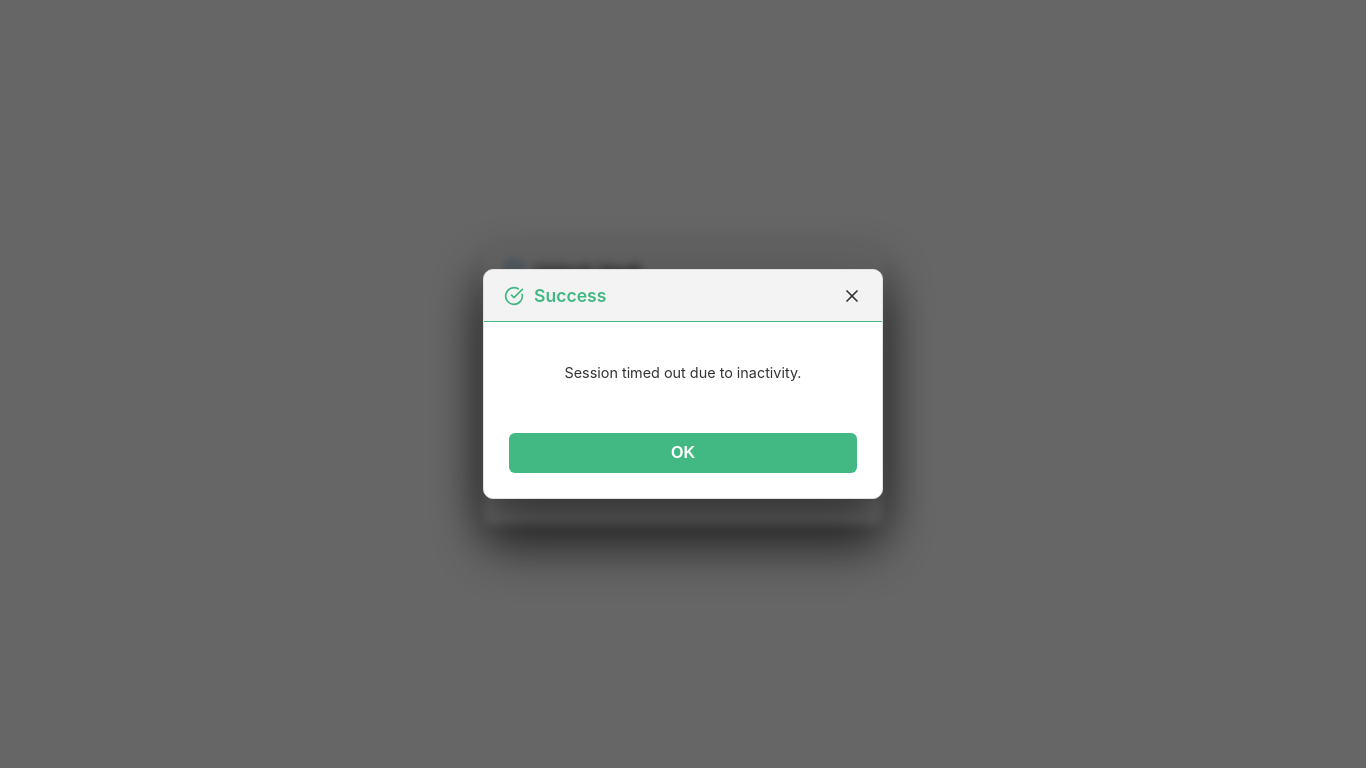
Test: App - sign-in screens › tells the user when the session timed out, and lets them dismiss it
This screenshot has width=1366, height=768.
Expected: the text "Session timed out due to inactivity." is shown, top-left (564, 364), bottom-right (802, 381)
What coordinates should you click on to do the following:
click the button "OK"
I would click on:
 (683, 453)
Its box is top-left (509, 433), bottom-right (857, 473).
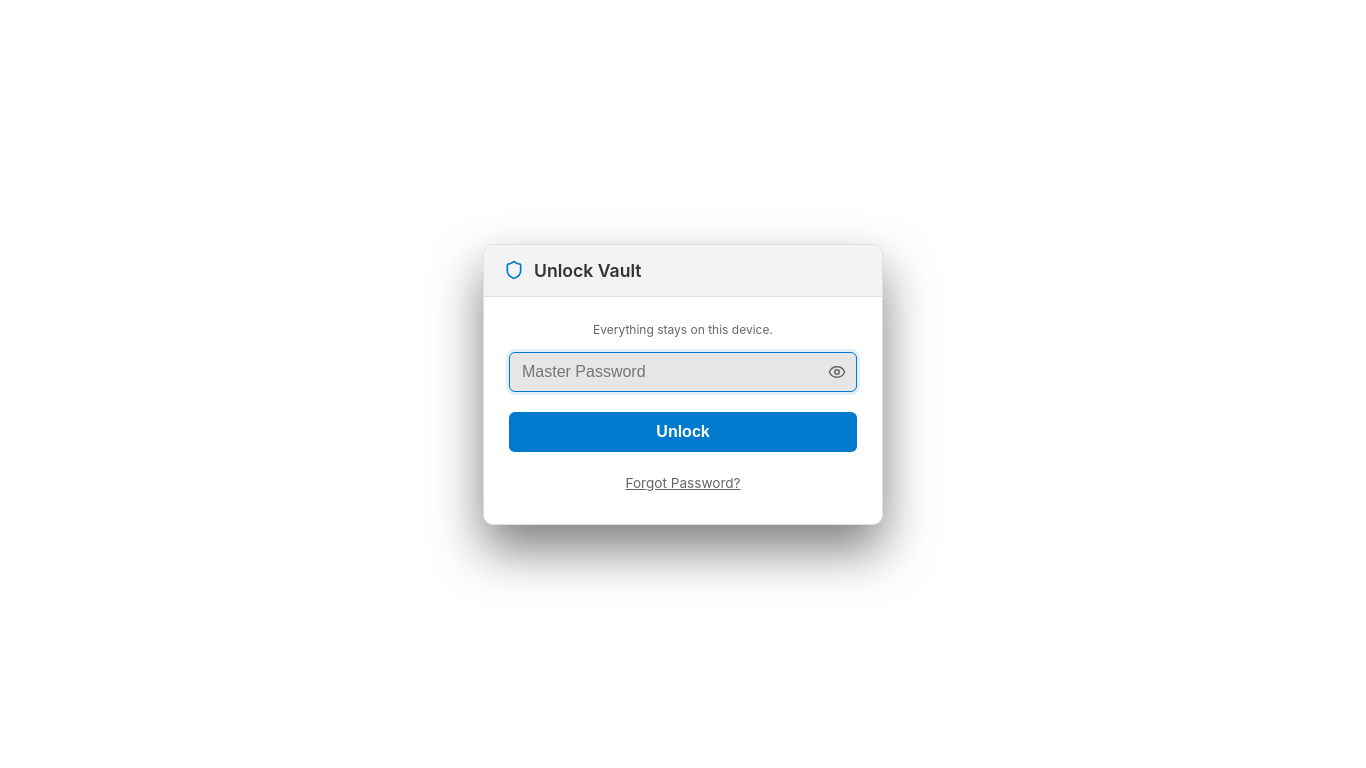
Expected: the text "Session timed out due to inactivity." is gone
